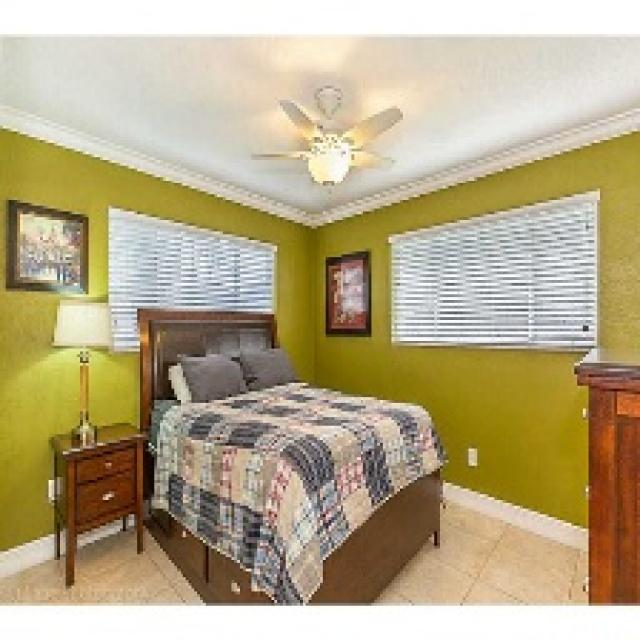Bed: (134, 306, 446, 603)
